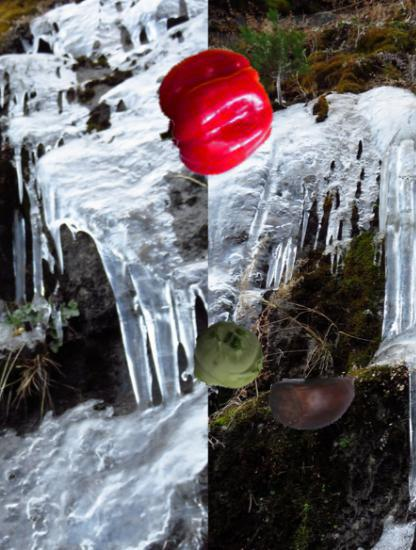Chestnut: (268, 359, 358, 449)
Kohlrabi: (188, 321, 264, 397)
Pepper: (150, 49, 277, 176)
